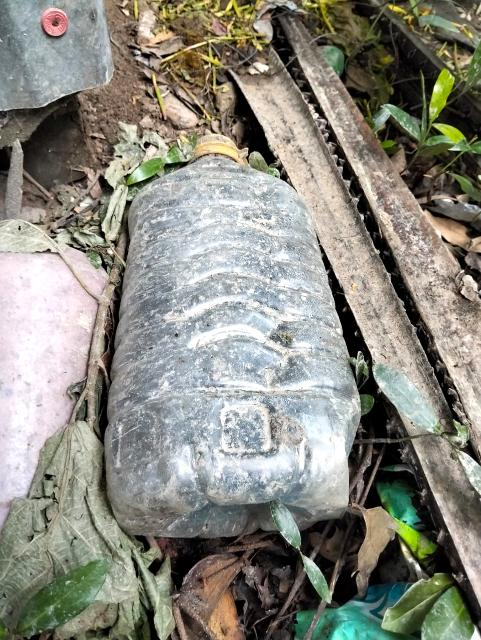bottle: (112, 134, 355, 528)
